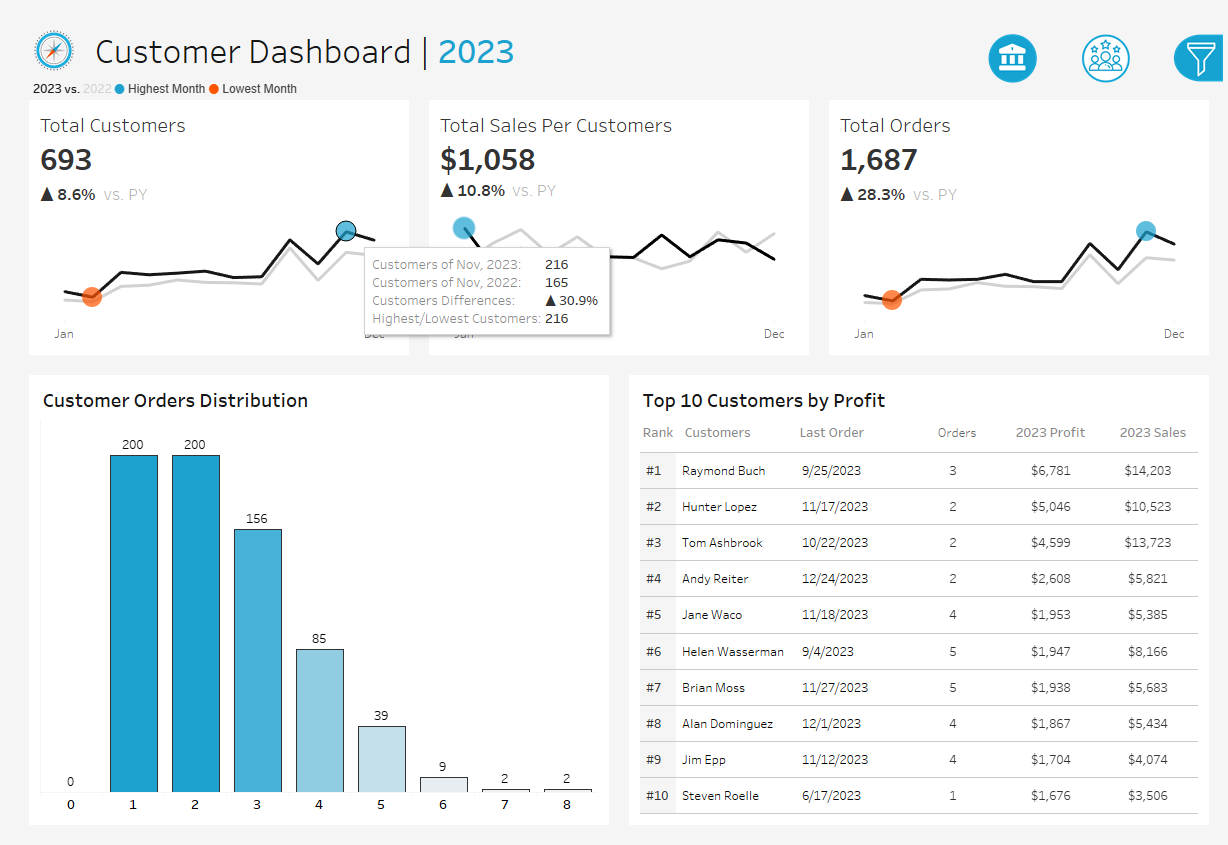

The dashboard page shown, as its layout file describes it:
{"tool":"tableau","page":{"name":"Customer Dashboard","canvas":[1200,800],"ordinal":0},"visuals":[{"type":"image","param":"C:/Users/sonabe/Downloads/Sales-Dashboard-Materials/Sales Dashboard Materials/Da","box":[0,0,69,50]},{"type":"text","box":[69,0,848,50]},{"type":"dashboard-object","box":[947,8,93,50]},{"type":"dashboard-object","box":[1040,8,92,50]},{"type":"blank","box":[970,10,223,69]},{"type":"worksheet","title":"Legend of KPI","mark":"Automatic","box":[0,50,1200,25]},{"type":"worksheet","title":"KPI Customers","mark":"Automatic","cols":["Order Date"],"box":[0,75,400,265]},{"type":"worksheet","title":"KPI Sales Per Customers","mark":"Automatic","rows":["Min/Max Sales (copy)_645140672944914455"],"cols":["Order Date"],"box":[400,75,400,265]},{"type":"worksheet","title":"KPI Orders","mark":"Automatic","cols":["Order Date"],"box":[800,75,400,265]},{"type":"text","box":[970,79,223,34]},{"type":"parameter","param":"[Parameters].[Parameter 1]","box":[970,113,223,52]},{"type":"blank","box":[970,165,223,32]},{"type":"text","box":[970,197,223,29]},{"type":"filter","title":"KPI Customers","param":"[federated.1t3rqbm1nkyzsf1ai52qu0gipv1d].[none:Category:nk]","box":[970,226,223,52]},{"type":"filter","title":"KPI Customers","param":"[federated.1t3rqbm1nkyzsf1ai52qu0gipv1d].[none:Sub-Category:nk]","box":[970,278,223,52]},{"type":"blank","box":[970,330,223,32]},{"type":"text","box":[17,357,566,34]},{"type":"text","box":[617,357,566,34]},{"type":"text","box":[970,362,223,29]},{"type":"worksheet","title":"Customer Distribution","mark":"Bar","rows":["CY Sales (copy)_645140672905826305"],"cols":["Calculation_645140672907522052"],"box":[17,391,566,402]},{"type":"text","box":[617,391,42,32]},{"type":"text","box":[659,391,115,32]},{"type":"text","box":[774,391,138,32]},{"type":"text","box":[912,391,78,32]},{"type":"filter","title":"KPI Customers","param":"[federated.1t3rqbm1nkyzsf1ai52qu0gipv1d].[none:Region:nk]","box":[970,391,223,52]},{"type":"text","box":[990,391,104,32]},{"type":"text","box":[1094,391,89,32]},{"type":"worksheet","title":"Top Customers","mark":"Automatic","rows":["Calculation_179581061499822087","Customer Name","Order Date"],"box":[617,423,566,370]},{"type":"filter","title":"KPI Customers","param":"[federated.1t3rqbm1nkyzsf1ai52qu0gipv1d].[none:State:nk]","box":[970,443,223,52]},{"type":"filter","title":"KPI Customers","param":"[federated.1t3rqbm1nkyzsf1ai52qu0gipv1d].[none:City:nk]","box":[970,495,223,52]}]}

Visuals, with their boxes on the page's 1200x800 design canvas (x1, y1, x2, y2). These are canvas units, not pixel positions in the 1228x845 screenshot, which may show the page scaled, cropped or inside an application window:
image: [x1=0, y1=0, x2=69, y2=50]
text: [x1=69, y1=0, x2=917, y2=50]
dashboard-object: [x1=947, y1=8, x2=1040, y2=58]
dashboard-object: [x1=1040, y1=8, x2=1132, y2=58]
blank: [x1=970, y1=10, x2=1193, y2=79]
"Legend of KPI" worksheet: [x1=0, y1=50, x2=1200, y2=75]
"KPI Customers" worksheet: [x1=0, y1=75, x2=400, y2=340]
"KPI Sales Per Customers" worksheet: [x1=400, y1=75, x2=800, y2=340]
"KPI Orders" worksheet: [x1=800, y1=75, x2=1200, y2=340]
text: [x1=970, y1=79, x2=1193, y2=113]
parameter: [x1=970, y1=113, x2=1193, y2=165]
blank: [x1=970, y1=165, x2=1193, y2=197]
text: [x1=970, y1=197, x2=1193, y2=226]
"KPI Customers" filter: [x1=970, y1=226, x2=1193, y2=278]
"KPI Customers" filter: [x1=970, y1=278, x2=1193, y2=330]
blank: [x1=970, y1=330, x2=1193, y2=362]
text: [x1=17, y1=357, x2=583, y2=391]
text: [x1=617, y1=357, x2=1183, y2=391]
text: [x1=970, y1=362, x2=1193, y2=391]
"Customer Distribution" worksheet (Bar marks): [x1=17, y1=391, x2=583, y2=793]
text: [x1=617, y1=391, x2=659, y2=423]
text: [x1=659, y1=391, x2=774, y2=423]
text: [x1=774, y1=391, x2=912, y2=423]
text: [x1=912, y1=391, x2=990, y2=423]
"KPI Customers" filter: [x1=970, y1=391, x2=1193, y2=443]
text: [x1=990, y1=391, x2=1094, y2=423]
text: [x1=1094, y1=391, x2=1183, y2=423]
"Top Customers" worksheet: [x1=617, y1=423, x2=1183, y2=793]
"KPI Customers" filter: [x1=970, y1=443, x2=1193, y2=495]
"KPI Customers" filter: [x1=970, y1=495, x2=1193, y2=547]
